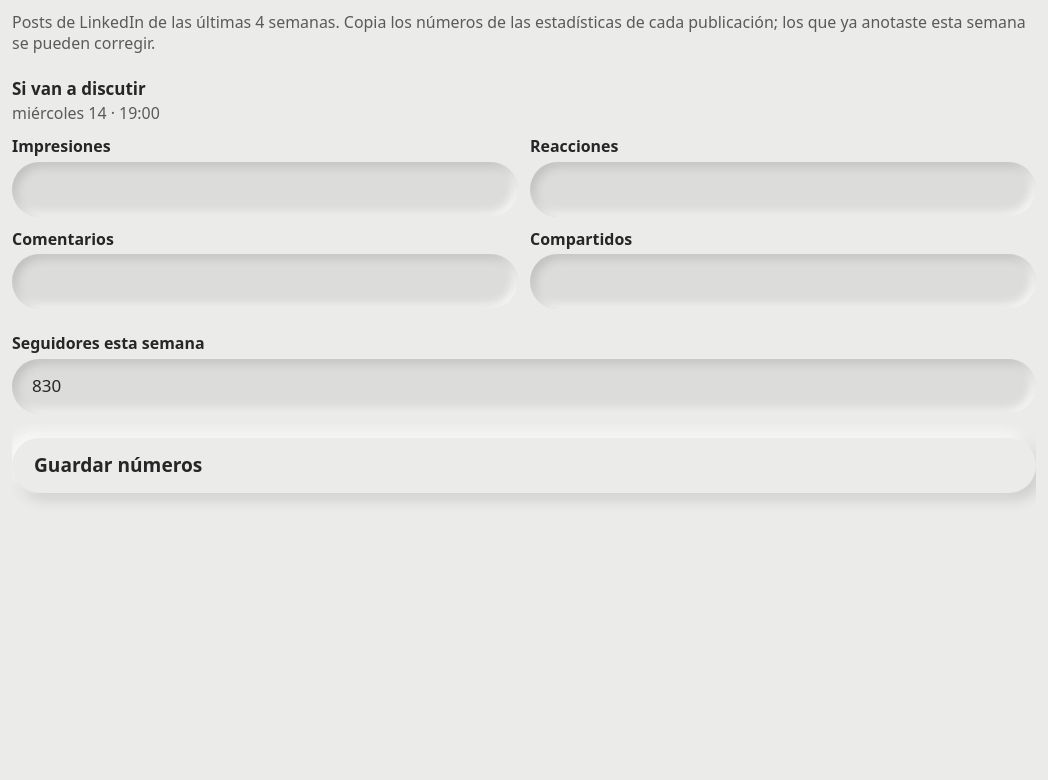
Test: NumerosDeLinkedin › does not send followers it already has, and asks for something when nothing changed
Click the button "Guardar números": [118, 465] box [12,438,1036,493]
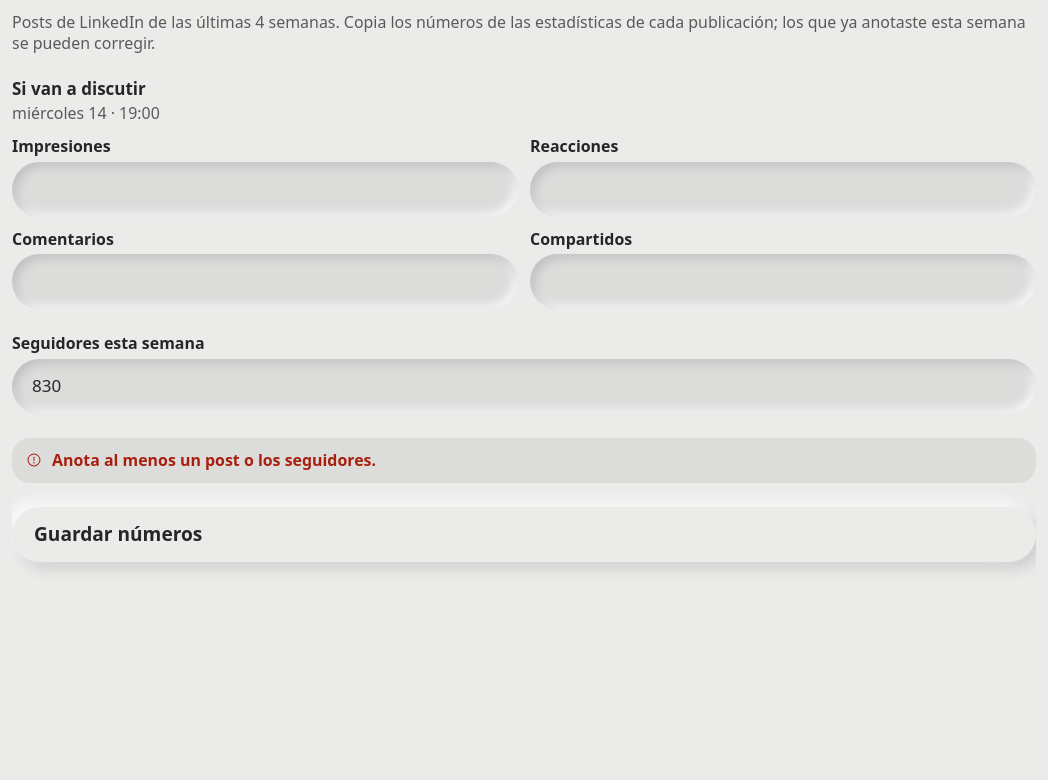
Expected: the text "Anota al menos un post o los seguidores." is shown, [52,449,376,471]
